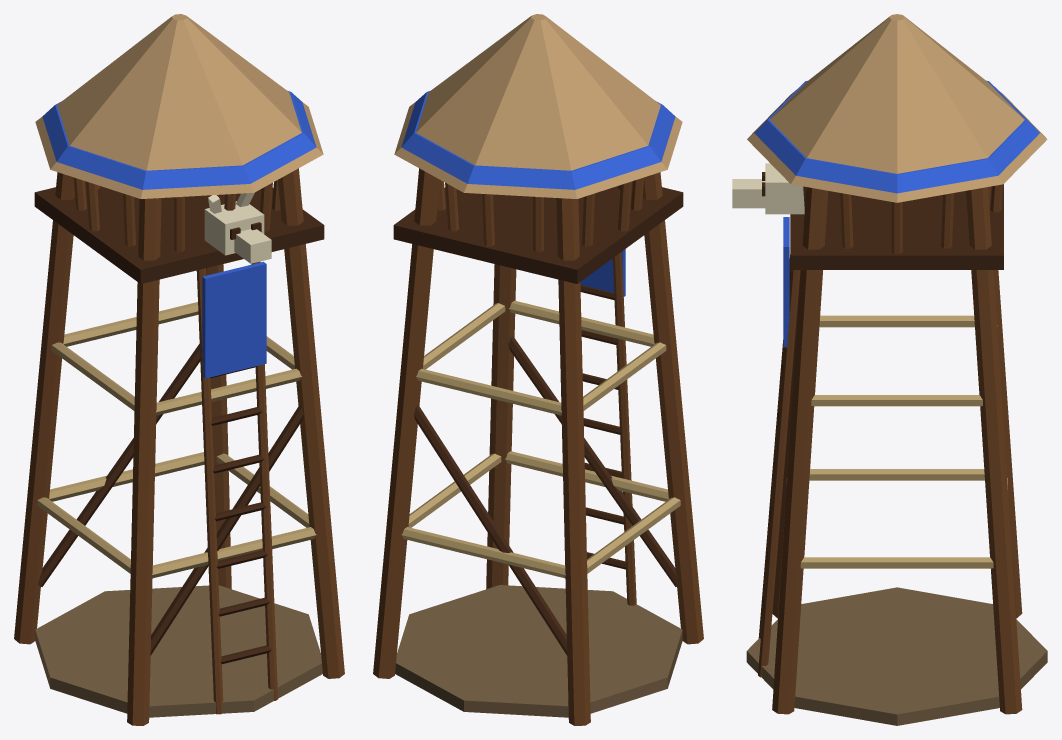
File: Watchtower.glb
The picture shows the model from 3 angles, left to right: view 1: azimuth 30°, elevation 25°; view 2: azimuth 150°, elevation 25°; view 3: azimuth 270°, elevation 25°; orthographic projection.
Parts seen in each view (by area): view 1: Watchtower; view 2: Watchtower; view 3: Watchtower.
Part boxes in pixels (left/top/right/bottom): Watchtower: left=14, top=14, right=344, bottom=725; Watchtower: left=373, top=14, right=703, bottom=725; Watchtower: left=732, top=14, right=1047, bottom=725.
Bounding box in the file's own units: 1.81 × 4.3 × 1.9.
